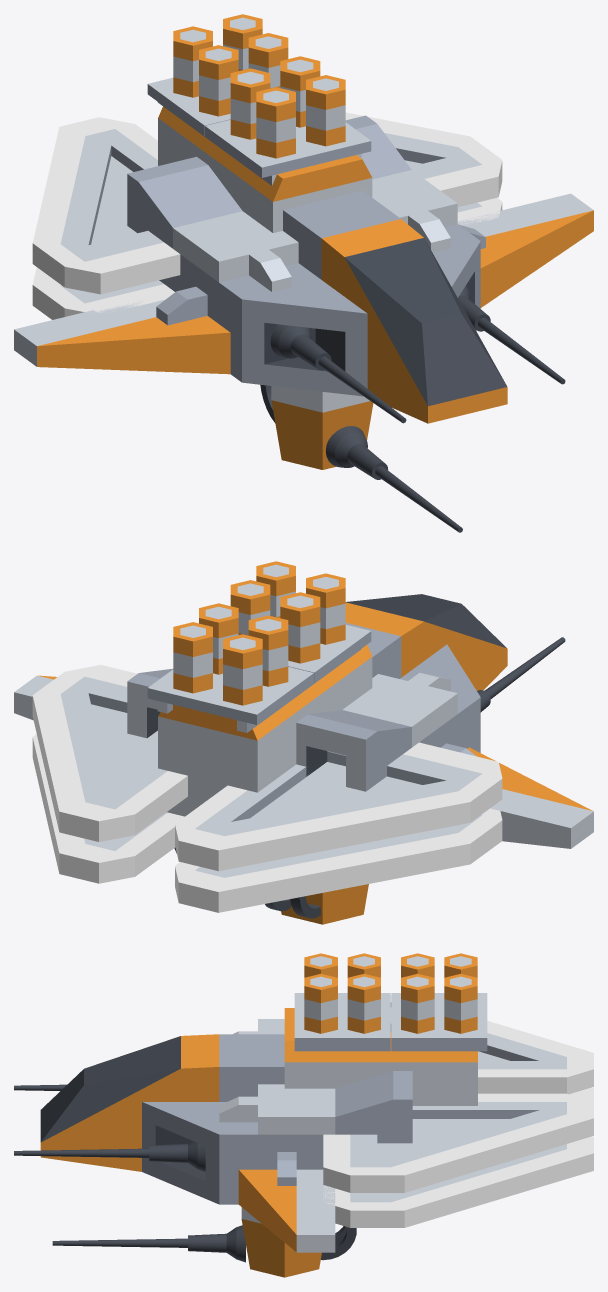
The model's file is chasseur_leger_1.glb.
3 views of the same model, one above another, from view 1: azimuth 30°, elevation 25°; view 2: azimuth 150°, elevation 25°; view 3: azimuth 270°, elevation 25° (orthographic). The views are drawn at different scales.
Parts seen in each view (by area): view 1: mergedBlocks(Clone); view 2: mergedBlocks(Clone); view 3: mergedBlocks(Clone).
Part boxes in pixels (<box>): mergedBlocks(Clone): <box>14,14,593,532</box>; mergedBlocks(Clone): <box>14,561,593,924</box>; mergedBlocks(Clone): <box>14,953,593,1277</box>.
Size of the model in its own units: 2.8 by 1.65 by 3.
1 material, 1 textured.
